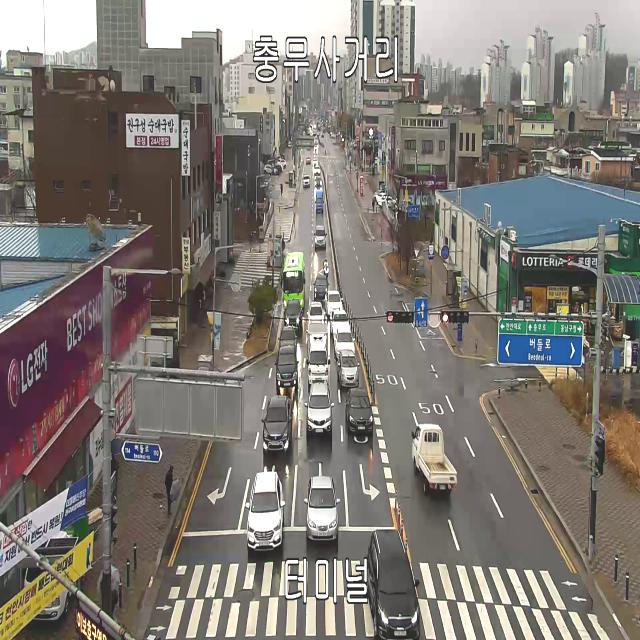Bus: (280, 252, 306, 308)
Car: (366, 528, 420, 640), (245, 472, 286, 551), (304, 476, 340, 541), (261, 395, 293, 451), (304, 382, 334, 434), (346, 388, 374, 433), (274, 345, 299, 387), (337, 350, 360, 387), (334, 328, 355, 358), (330, 310, 351, 338), (284, 300, 302, 331), (278, 326, 297, 355), (325, 290, 343, 315), (313, 276, 330, 302), (306, 302, 326, 324), (314, 226, 327, 248), (378, 195, 396, 207), (262, 164, 278, 174), (376, 192, 388, 202), (373, 188, 385, 197), (302, 175, 310, 188), (277, 159, 286, 169), (315, 177, 322, 187), (314, 166, 320, 175), (312, 158, 318, 166), (306, 158, 311, 165), (374, 156, 377, 164), (314, 145, 318, 151), (314, 138, 318, 144), (321, 133, 324, 138)
Motorcycle: (324, 258, 329, 276)
Truck: (24, 536, 80, 620), (412, 424, 457, 494), (306, 324, 330, 384), (315, 190, 324, 213)
